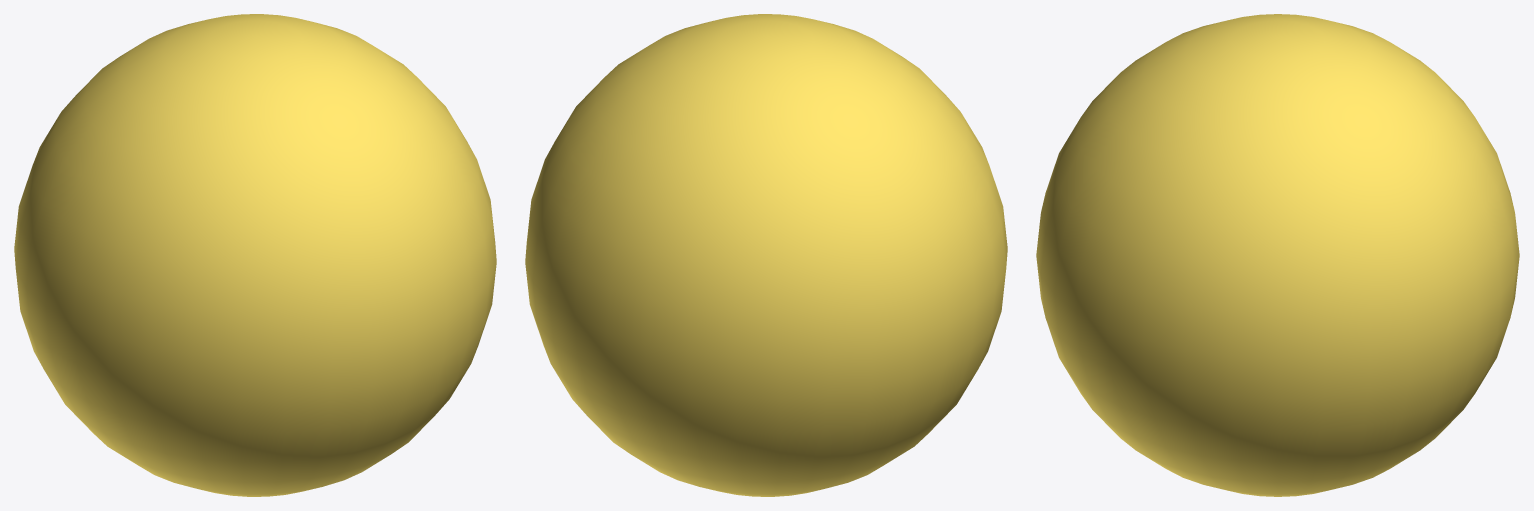
File: body-armour-pickup.glb
The picture shows the model from 3 angles, left to right: view 1: azimuth 30°, elevation 25°; view 2: azimuth 150°, elevation 25°; view 3: azimuth 270°, elevation 25°; orthographic projection.
Parts seen in each view (by area): view 1: Pickup_Bubble.012; view 2: Pickup_Bubble.012; view 3: Pickup_Bubble.012.
Boxes of the visible parts, x1=… form: Pickup_Bubble.012: x1=14, y1=14, x2=496, y2=496; Pickup_Bubble.012: x1=525, y1=14, x2=1007, y2=496; Pickup_Bubble.012: x1=1036, y1=14, x2=1519, y2=496.
Bounding box in the file's own units: 1 × 1 × 1.
